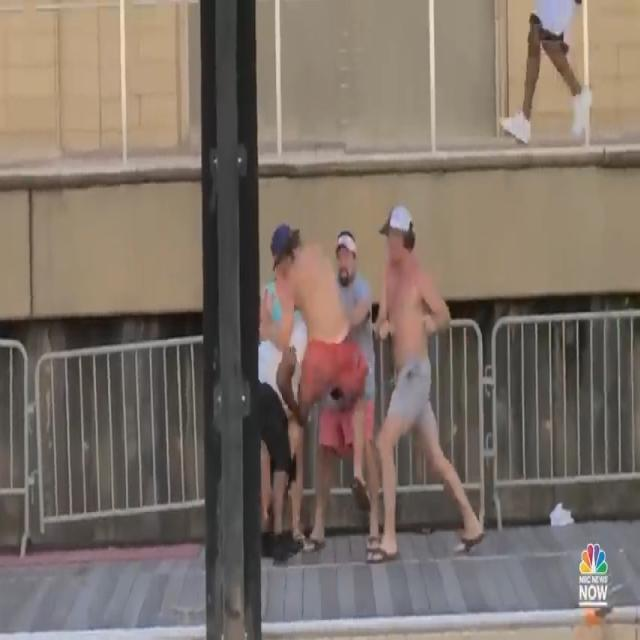fight: (249, 194, 376, 568)
